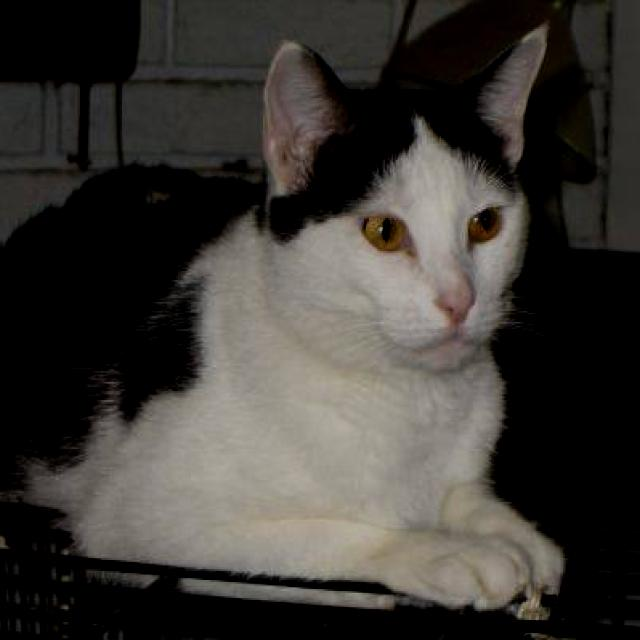Kucing: (0, 2, 572, 621)
